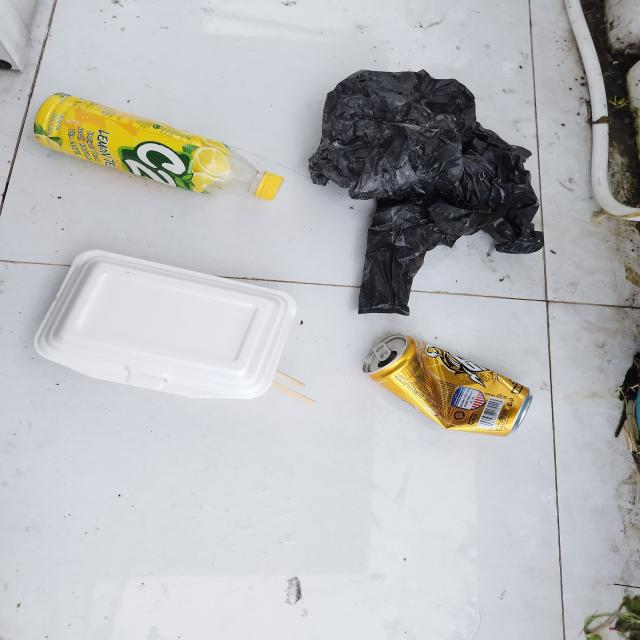bag: (308, 63, 546, 320)
bottle: (30, 90, 288, 204)
can: (358, 330, 534, 439)
foam box: (35, 247, 299, 401)
